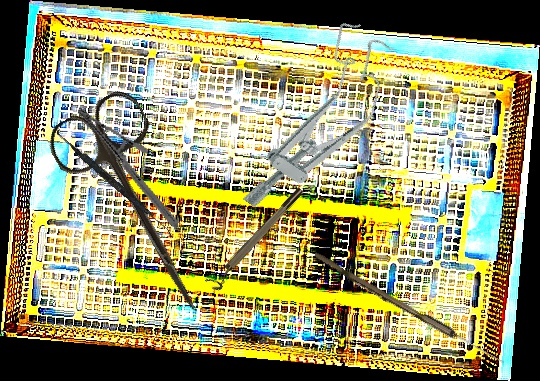Fixation Ring: (204, 185, 310, 294)
Iris Scissors: (40, 84, 242, 332)
Needle Holder: (50, 105, 206, 230)
Spatula Surgical: (52, 130, 179, 239)
Speculum: (229, 15, 411, 234)
Surgical Spoon: (311, 251, 507, 367)
